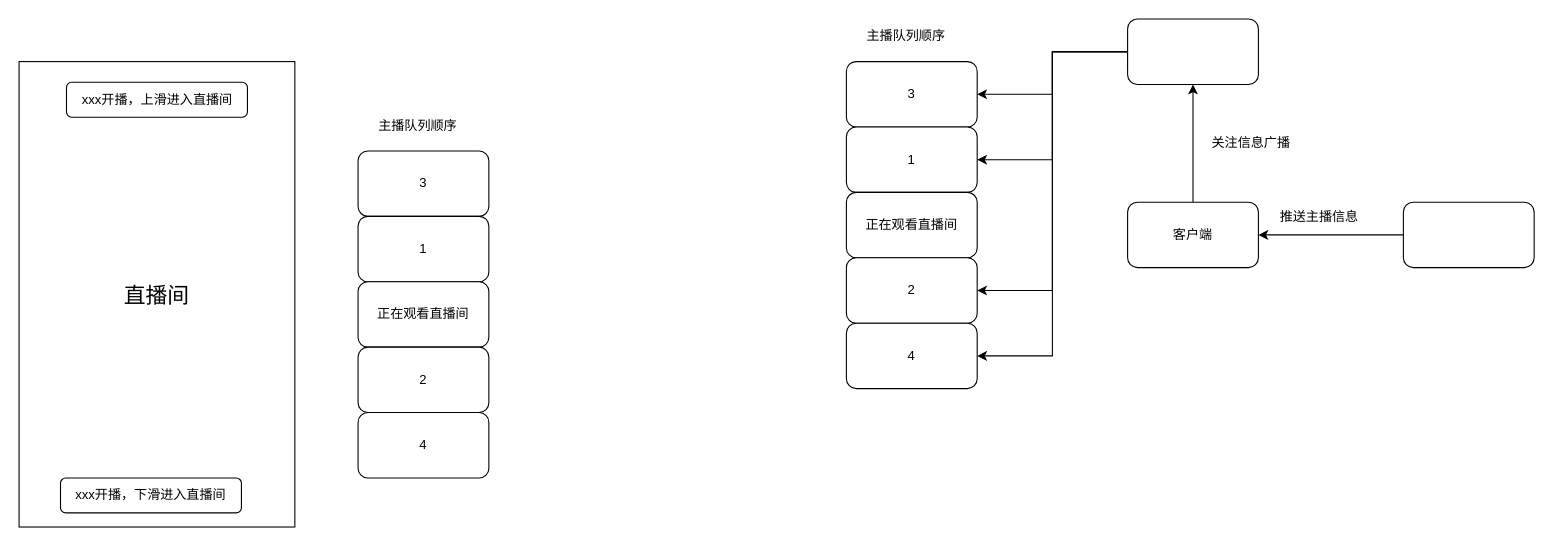
Some shapes in this 1553 by 546 pixel diagram are drawn without their labels. The box of each missing label's shape, as (x1, y1, x2, y2) in pixels:
服务器: (1402, 201, 1534, 268)
直播间列表: (1127, 18, 1258, 84)
